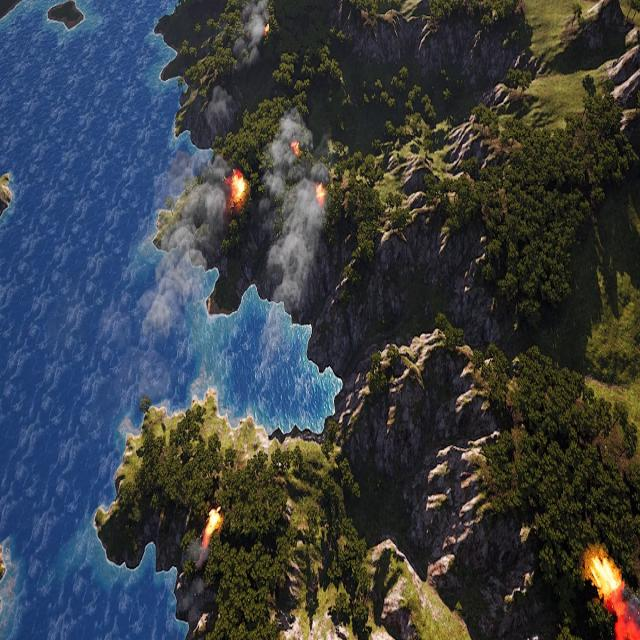fire: (588, 556, 622, 603), (228, 168, 249, 207), (205, 511, 223, 541), (288, 134, 304, 162), (314, 182, 328, 209), (264, 22, 272, 36)
smoke: (126, 90, 235, 424), (250, 114, 328, 326), (233, 0, 270, 70), (182, 541, 212, 619), (608, 591, 640, 640)
